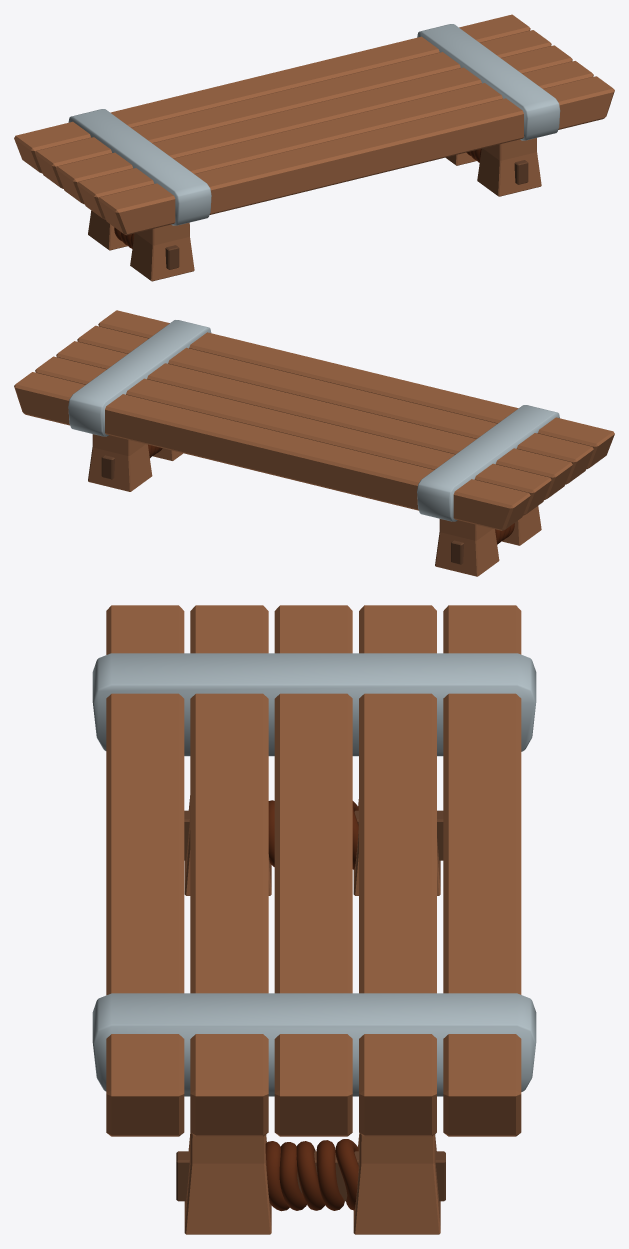
The model's file is table.glb.
The picture shows the model from 3 angles, top to bottom: view 1: azimuth 30°, elevation 25°; view 2: azimuth 150°, elevation 25°; view 3: azimuth 270°, elevation 25°; orthographic projection. The views are drawn at different scales.
Parts seen in each view (by area): view 1: table; view 2: table; view 3: table.
Boxes of the visible parts, box(x1,y1,x2,y2) form: table: box(14, 14, 614, 281); table: box(14, 310, 614, 576); table: box(92, 605, 536, 1234).
Size of the model in its own units: 6.99 by 1.38 by 2.68.
